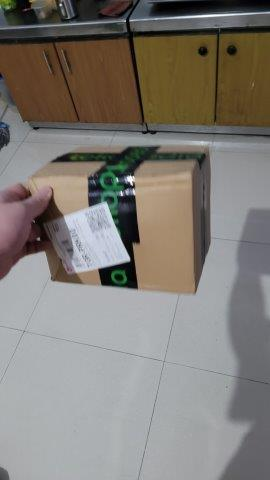kardus: (26, 144, 211, 294)
